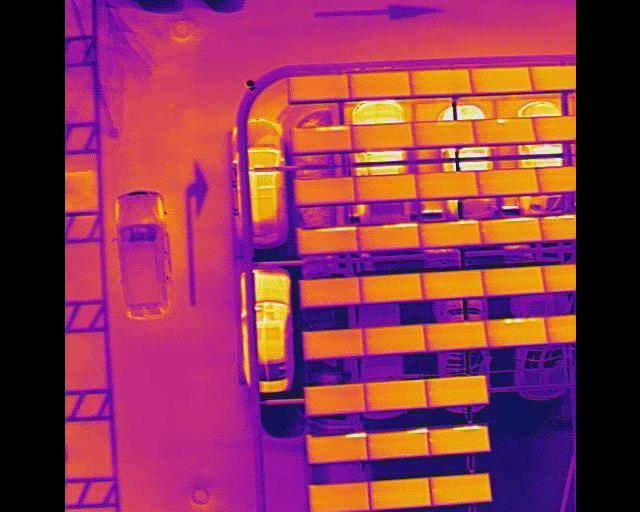Cell: (472, 118, 534, 143)
No-Anomaly: (368, 478, 430, 509), (304, 384, 364, 415), (307, 482, 369, 512), (362, 325, 423, 355), (365, 381, 426, 410), (347, 71, 410, 99), (423, 322, 486, 350), (427, 376, 485, 406), (303, 330, 362, 359), (429, 475, 488, 503), (480, 268, 545, 293), (299, 279, 359, 306), (354, 175, 416, 201), (294, 177, 353, 204), (414, 172, 477, 197), (350, 124, 413, 149), (476, 169, 538, 194), (359, 276, 422, 300), (411, 121, 474, 145), (420, 272, 483, 296), (287, 76, 349, 100), (470, 68, 531, 92), (408, 71, 469, 94)
Unclassified: (367, 429, 428, 459), (307, 433, 367, 463), (484, 318, 545, 347), (428, 426, 488, 454), (292, 126, 351, 153), (358, 223, 419, 249), (419, 219, 479, 245), (297, 227, 357, 252), (479, 218, 539, 242)
